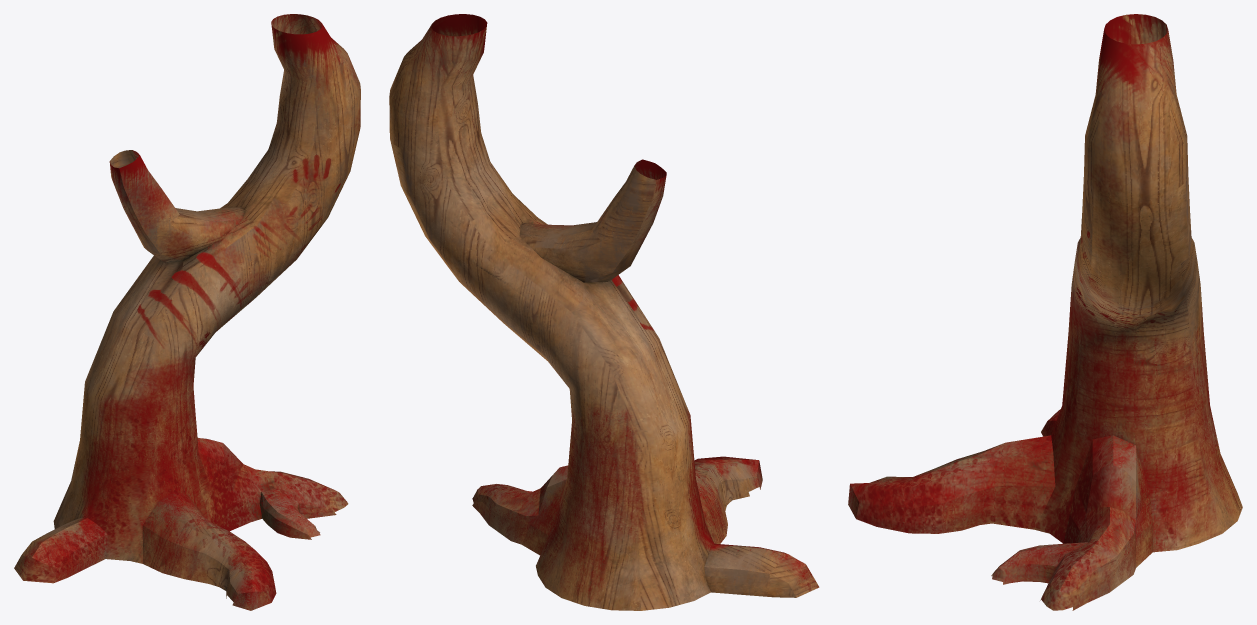
Rendered from ChaosZooTree.fbx.
The picture shows the model from 3 angles, left to right: view 1: azimuth 30°, elevation 25°; view 2: azimuth 150°, elevation 25°; view 3: azimuth 270°, elevation 25°; orthographic projection. The views are drawn at different scales.
Visible parts, largest first — view 1: pCylinder15; view 2: pCylinder15; view 3: pCylinder15.
Part boxes in pixels (bbox=[...]): pCylinder15: bbox=[14, 14, 360, 610]; pCylinder15: bbox=[389, 14, 819, 610]; pCylinder15: bbox=[848, 14, 1242, 610].
Bounding box in the file's own units: 10.53 × 12.94 × 8.05.
